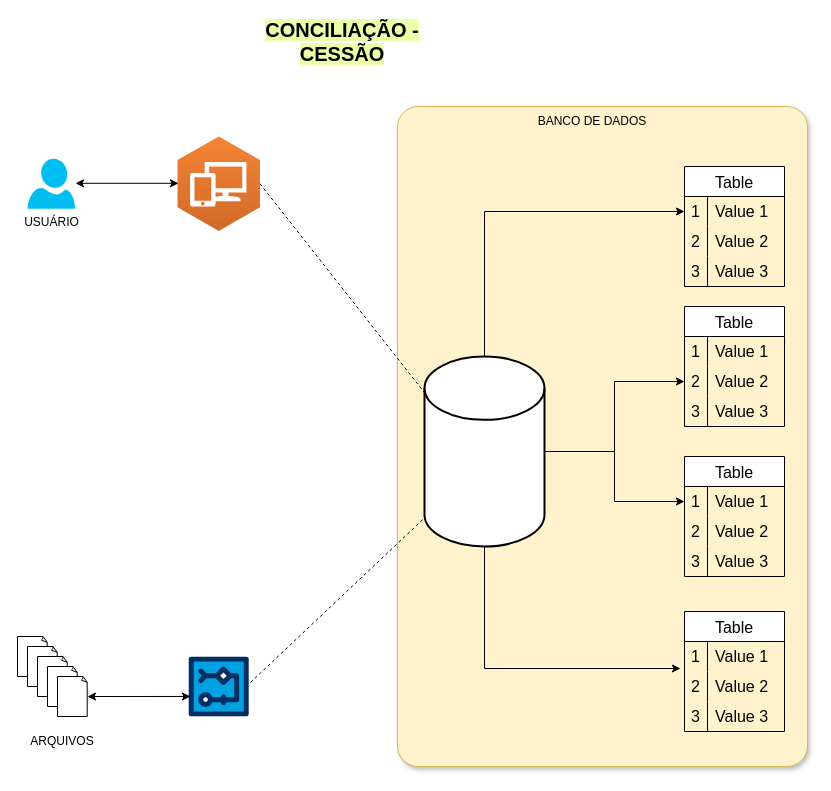
Some shapes in this 831 by 791 pixel diagram are drawn without their labels. Each missing label, with the centre of its shape:
"APLICAÇÃO" belongs at (218,183).
"FLUXO ETL" belongs at (218,686).
